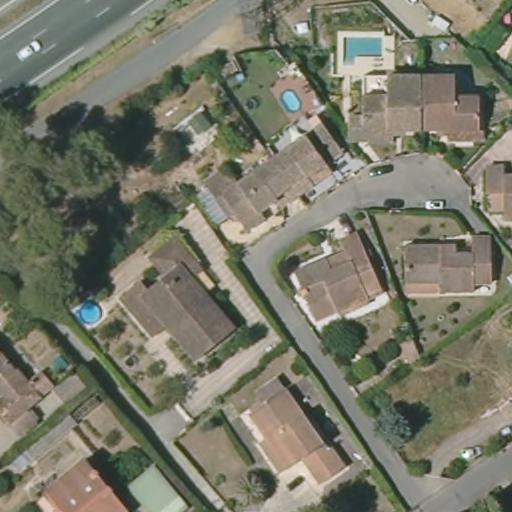pool: (335, 34, 387, 68), (276, 81, 303, 118), (73, 297, 103, 325)
